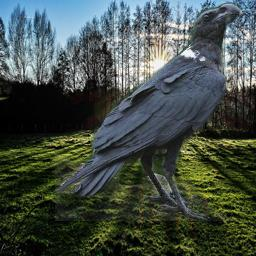Crow: (55, 0, 247, 221)
